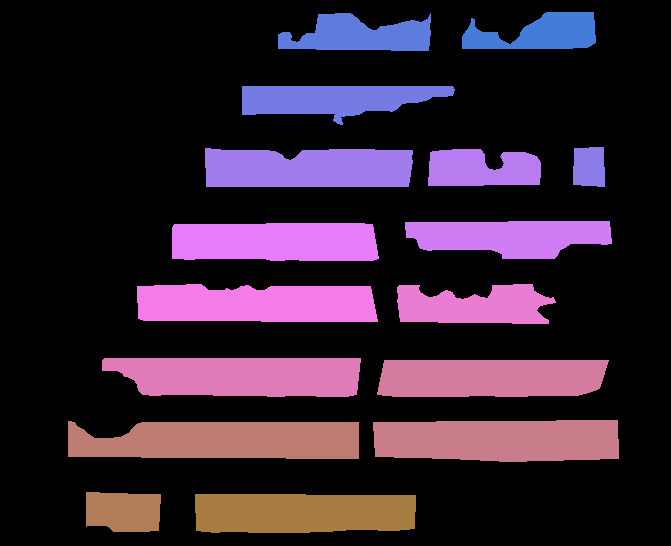parkingspot: (0, 0, 661, 544), (68, 421, 358, 458), (373, 420, 618, 461), (102, 358, 360, 396), (137, 284, 377, 321), (195, 494, 415, 532), (377, 360, 608, 396), (242, 86, 454, 124), (205, 148, 412, 186), (172, 223, 378, 260), (405, 221, 611, 258), (397, 284, 555, 323), (278, 13, 430, 50), (462, 12, 595, 48), (428, 149, 540, 185), (86, 492, 160, 531), (604, 444, 665, 488), (573, 147, 604, 186)
